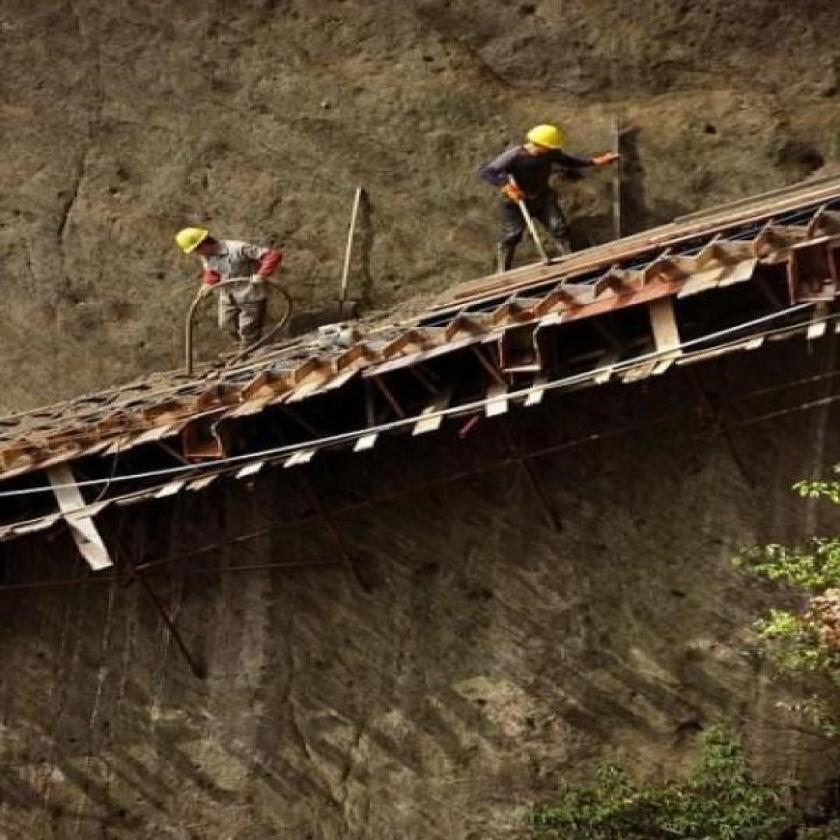Con_casco: (170, 224, 229, 267), (524, 114, 566, 171)
